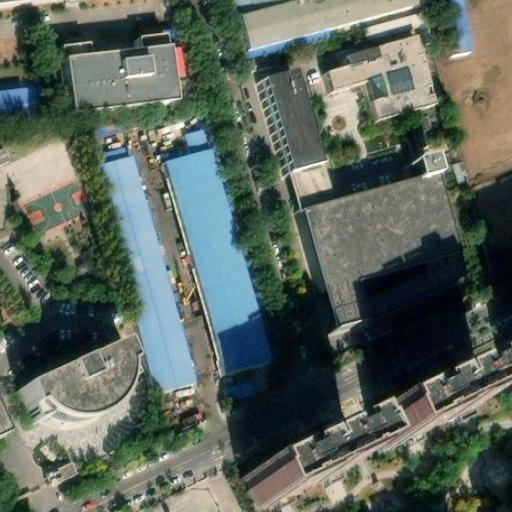building: (304, 141, 468, 321), (169, 125, 271, 400), (100, 146, 190, 384), (233, 0, 437, 50), (58, 34, 181, 116), (375, 363, 495, 443), (241, 428, 361, 508), (329, 35, 439, 120), (38, 330, 142, 409), (272, 72, 331, 175), (441, 0, 484, 56), (364, 15, 422, 49), (296, 166, 339, 206), (41, 453, 78, 485), (0, 89, 30, 122), (447, 156, 467, 183), (0, 149, 7, 165)
